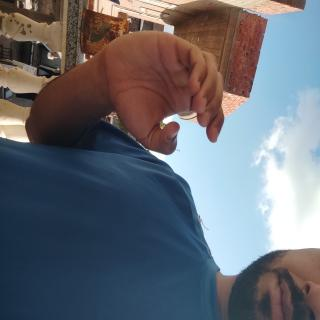JEEM: (17, 120, 135, 320)
